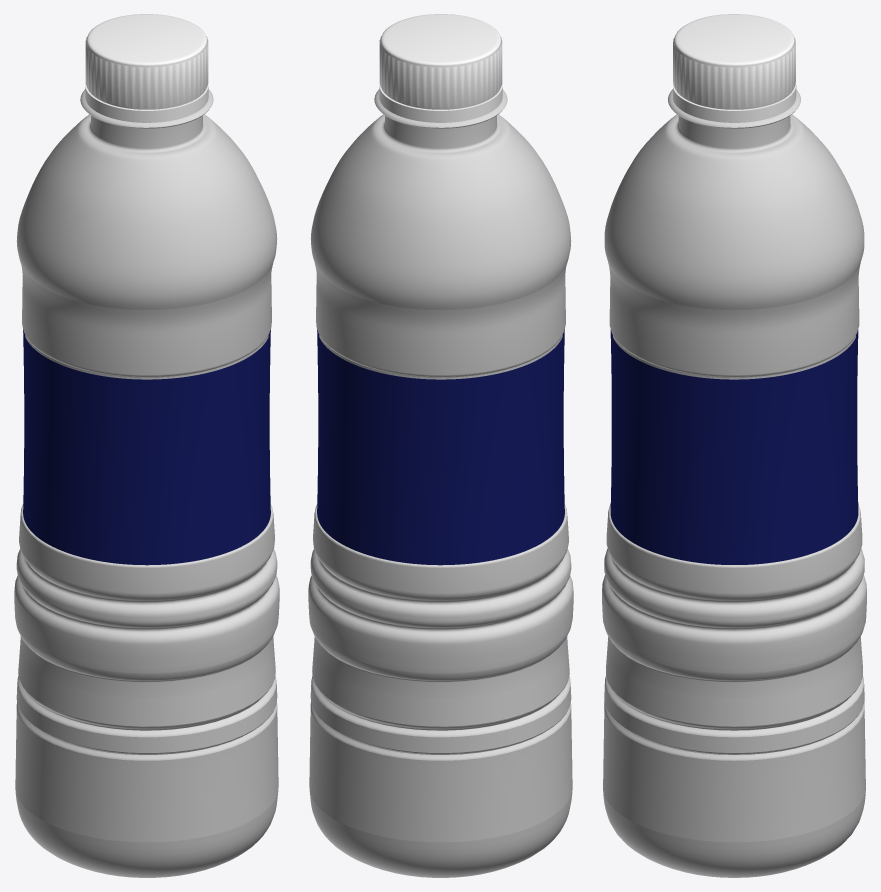
The model's file is bottlekey.fbx.
3 views of the same model, side by side, from view 1: azimuth 30°, elevation 25°; view 2: azimuth 150°, elevation 25°; view 3: azimuth 270°, elevation 25° (orthographic).
Parts seen in each view (by area): view 1: Line002, Tube001, Cylinder001, Tube006; view 2: Line002, Tube001, Cylinder001, Tube006; view 3: Line002, Tube001, Cylinder001, Tube006.
Part boxes in pixels (x1=…): Line002: x1=14, y1=89, x2=279, y2=877; Tube001: x1=23, y1=329, x2=270, y2=565; Cylinder001: x1=85, y1=14, x2=208, y2=109; Tube006: x1=85, y1=83, x2=208, y2=122; Line002: x1=308, y1=89, x2=573, y2=877; Tube001: x1=317, y1=329, x2=564, y2=565; Cylinder001: x1=379, y1=14, x2=502, y2=109; Tube006: x1=379, y1=83, x2=502, y2=122; Line002: x1=602, y1=89, x2=866, y2=877; Tube001: x1=610, y1=330, x2=858, y2=564; Cylinder001: x1=673, y1=14, x2=795, y2=109; Tube006: x1=673, y1=82, x2=796, y2=122.
Size of the model in its own units: 8.89 by 29.76 by 8.87.
